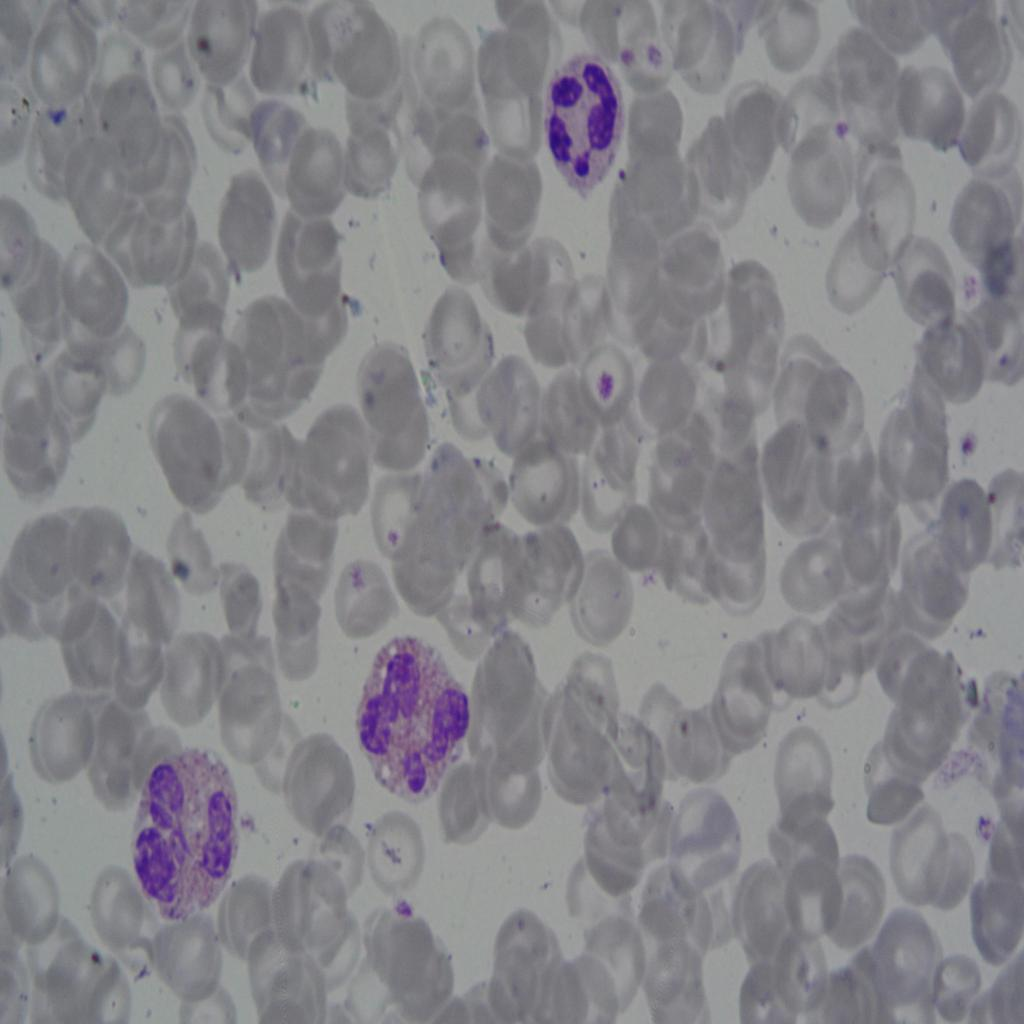Neutrofil: (352, 629, 478, 815), (135, 742, 256, 914), (532, 36, 644, 205)
Platelet: (950, 392, 987, 461), (47, 82, 71, 138), (592, 355, 614, 406), (829, 112, 855, 146), (402, 891, 419, 930)
